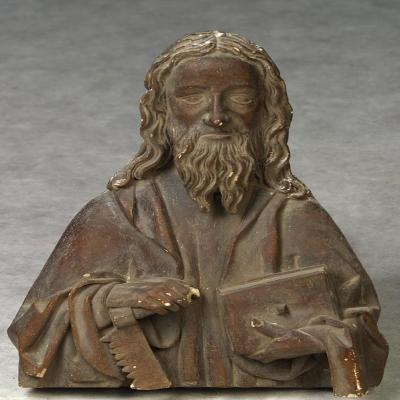sculpture: (7, 31, 390, 399)
